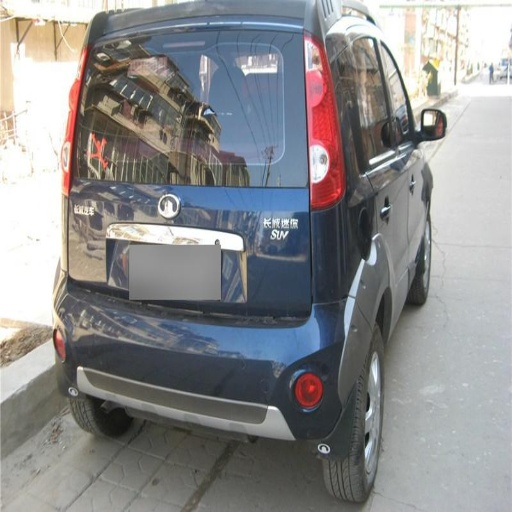back_bumper: (55, 274, 364, 433), (313, 199, 349, 280)
back_glass: (81, 32, 202, 160)
back_left_light: (61, 48, 88, 242)
back_right_door: (367, 110, 397, 284)
tailgate: (76, 126, 302, 320)
trunk: (207, 25, 306, 180), (84, 285, 275, 348)
